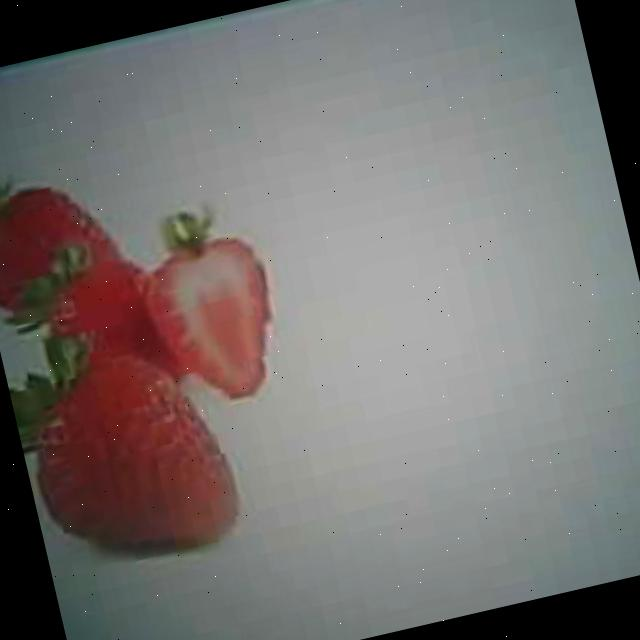strawberry: (12, 340, 244, 580)
